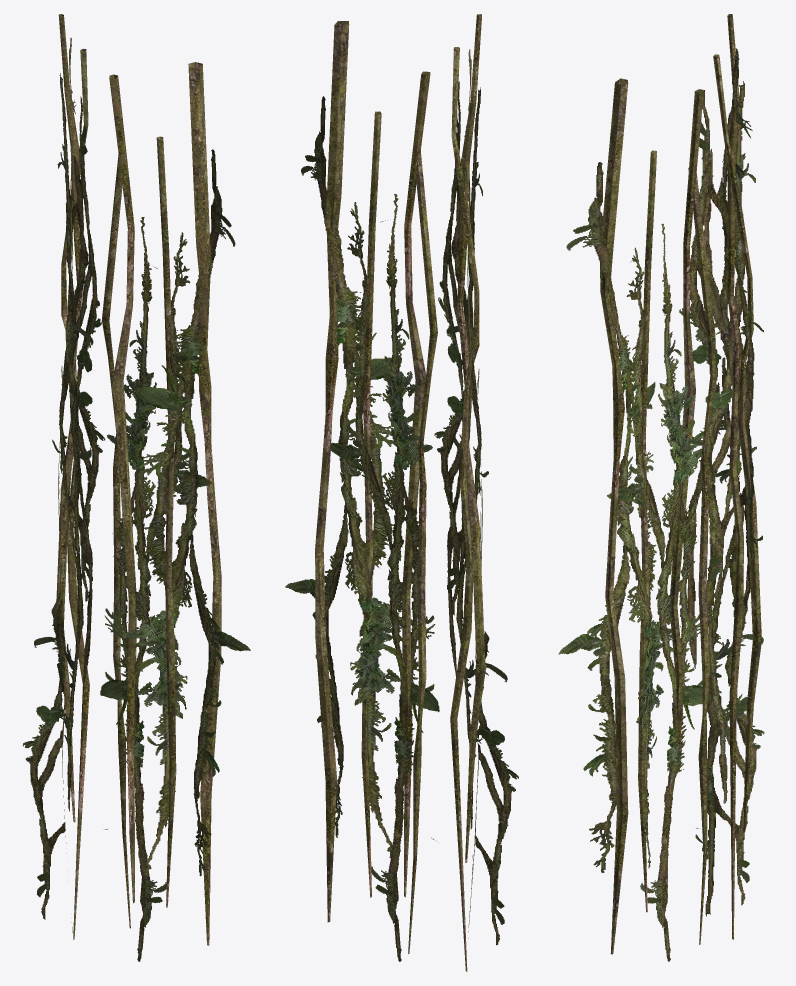
The model's file is bg_anh_foliage_tr_v43_sm_old.FBX.
3 views of the same model, side by side, from view 1: azimuth 30°, elevation 25°; view 2: azimuth 210°, elevation 25°; view 3: azimuth 270°, elevation 25° (orthographic). The views are drawn at different scales.
Parts seen in each view (by area): view 1: bg_anh_foliage_tr_v43_sm_old; view 2: bg_anh_foliage_tr_v43_sm_old; view 3: bg_anh_foliage_tr_v43_sm_old.
Part boxes in pixels (<box>): bg_anh_foliage_tr_v43_sm_old: <box>22,14,250,961</box>; bg_anh_foliage_tr_v43_sm_old: <box>285,14,518,971</box>; bg_anh_foliage_tr_v43_sm_old: <box>558,14,764,961</box>.
Size of the model in its own units: 239 by 1646 by 363.
